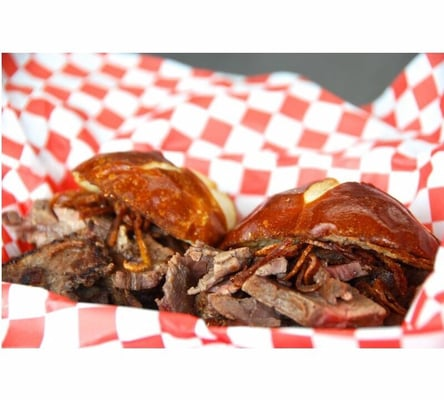soup: (3, 149, 237, 309), (211, 177, 442, 328)
